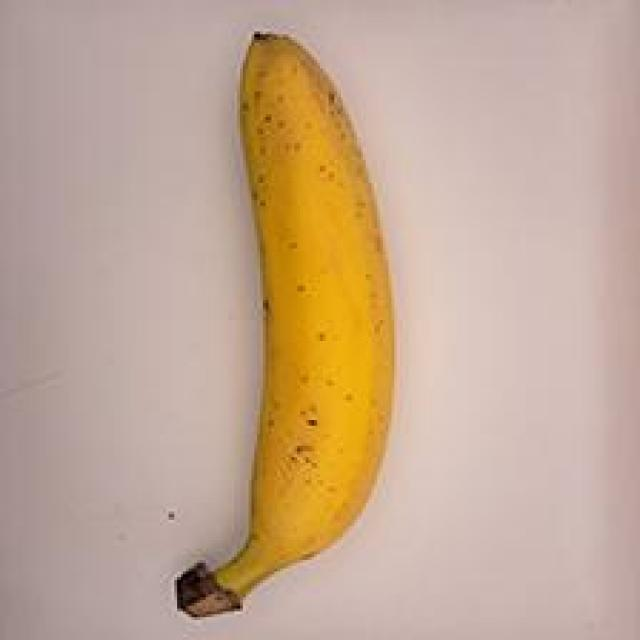Ripe: (94, 0, 452, 640)
